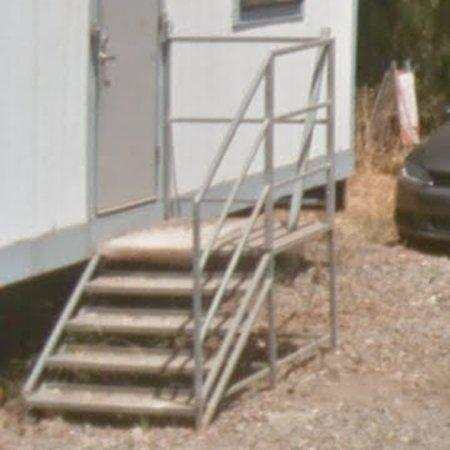stairs: (24, 224, 196, 418), (202, 214, 274, 424)
